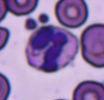N: (26, 26, 78, 72)
